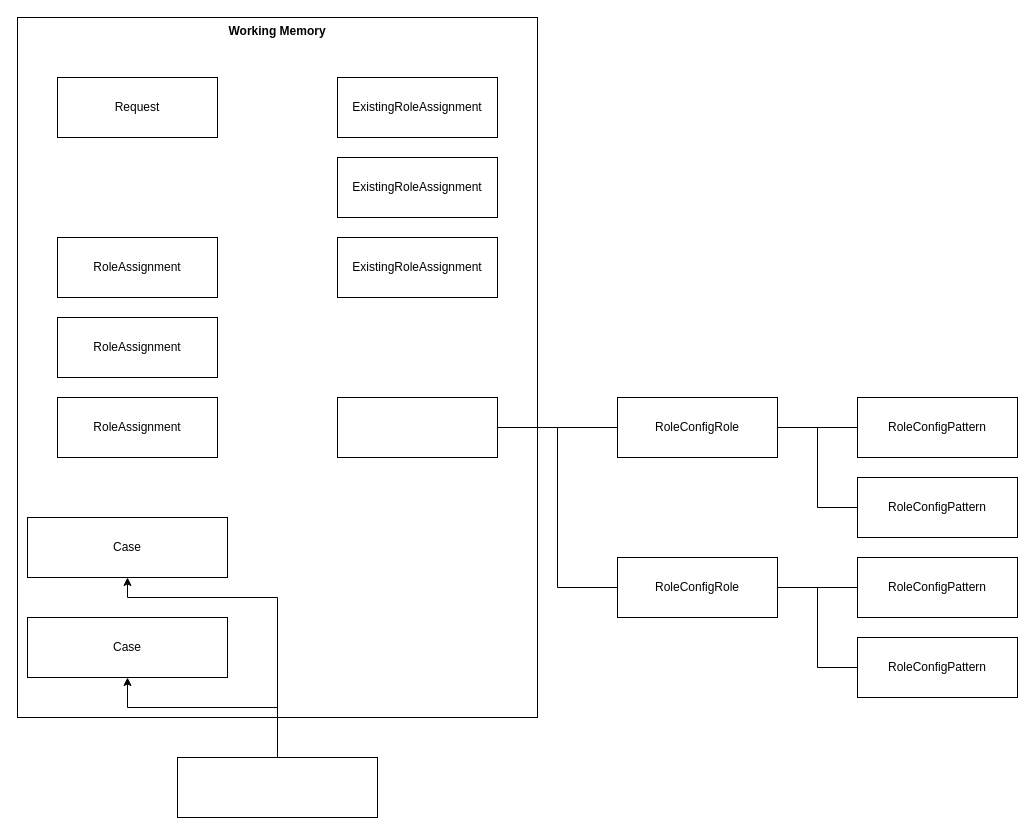
The diagram is 1035 pixels wide and 835 high, and some of its shapes have lost their labels. Each missing label, with the centre of its shape:
"RetrieveDataService" belongs at (277,787).
"RoleConfig" belongs at (417,427).
